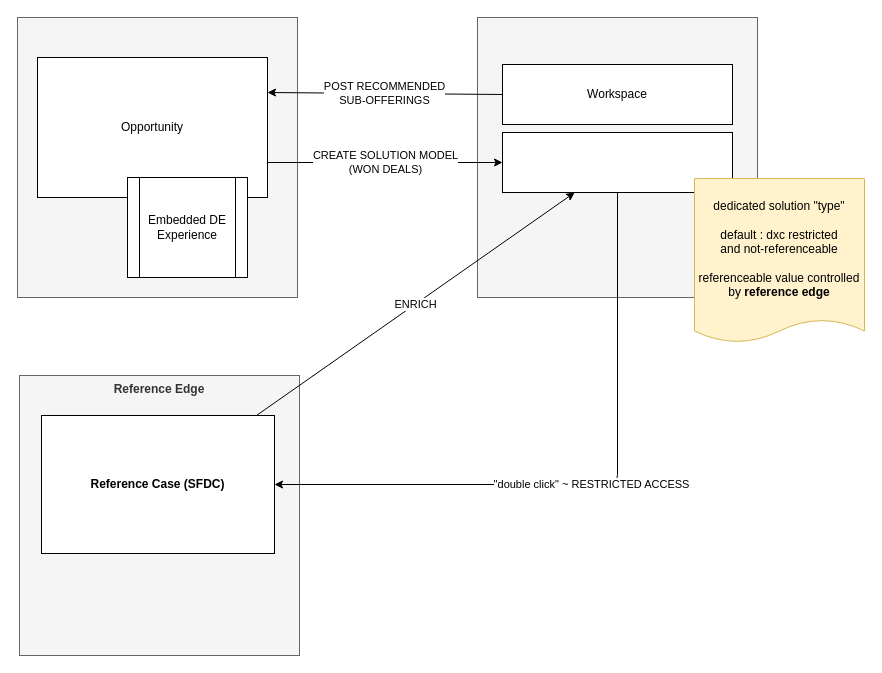
The diagram is 882 pixels wide and 673 high, and some of its shapes have lost their labels. Here are the shapes that lost their labels. From the top down, the box of each, then its label:
(16, 16, 298, 298): SFDC
(476, 16, 758, 298): Digital Explorer
(502, 132, 732, 192): Solutions
